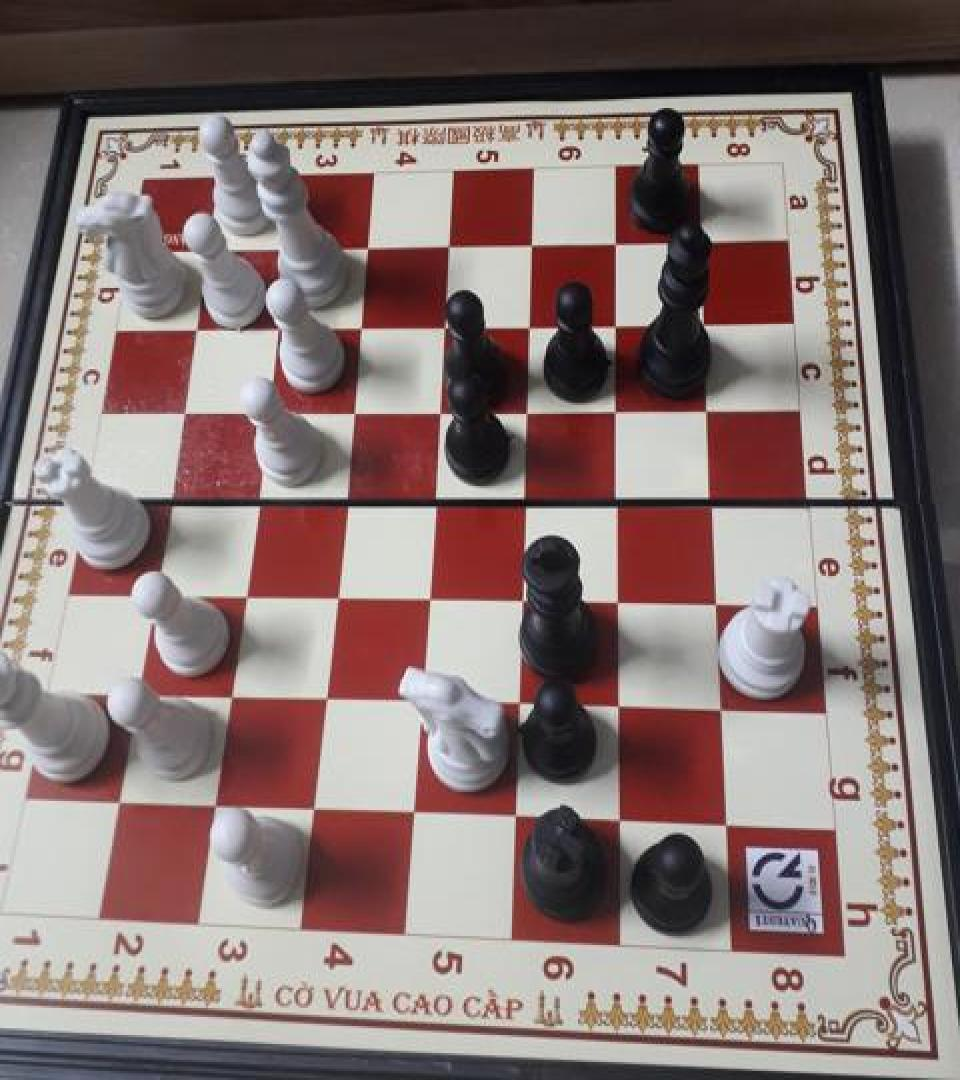xcorner: (600, 481, 634, 520), (507, 481, 541, 520), (683, 224, 717, 262), (598, 225, 632, 263), (514, 226, 548, 264), (432, 228, 466, 266), (350, 228, 384, 266), (270, 230, 304, 268), (191, 231, 225, 269), (687, 305, 721, 343), (599, 305, 633, 343), (512, 306, 546, 344), (427, 306, 461, 344), (343, 307, 377, 345), (260, 307, 294, 345), (179, 308, 213, 346), (690, 390, 724, 428), (599, 390, 633, 428), (510, 390, 544, 428), (422, 390, 456, 428), (335, 390, 369, 428), (249, 390, 283, 428), (165, 390, 199, 428), (694, 483, 728, 521), (416, 480, 450, 518), (326, 480, 360, 518), (238, 478, 272, 516), (151, 478, 185, 516), (698, 582, 732, 620), (600, 580, 634, 618), (504, 578, 538, 616), (410, 576, 444, 614), (317, 575, 351, 613), (226, 574, 260, 612), (136, 572, 170, 610), (702, 688, 736, 726), (601, 685, 635, 723), (501, 683, 535, 721), (403, 680, 437, 718), (307, 678, 341, 716), (212, 675, 246, 713), (119, 673, 153, 711), (706, 802, 740, 840), (601, 799, 635, 837), (498, 796, 532, 834), (396, 791, 430, 829), (296, 788, 330, 826), (198, 784, 232, 822), (102, 781, 136, 819)
